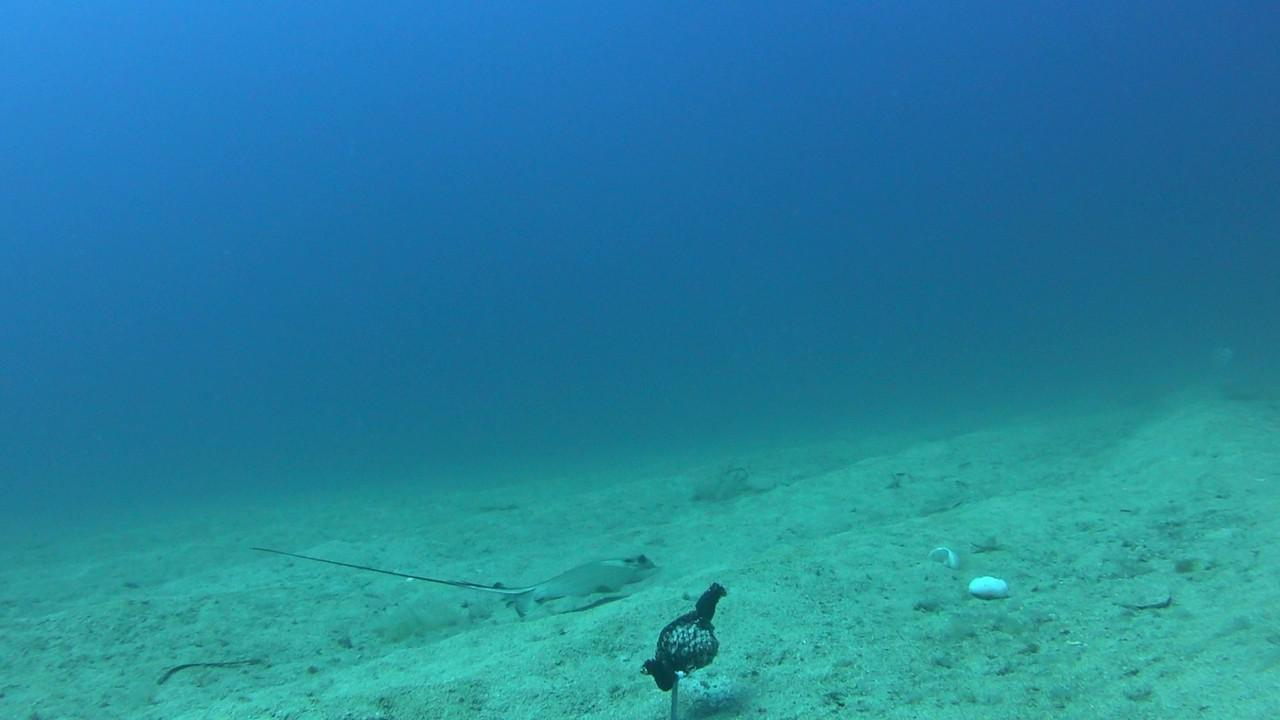myliobatis: (229, 536, 669, 616)
